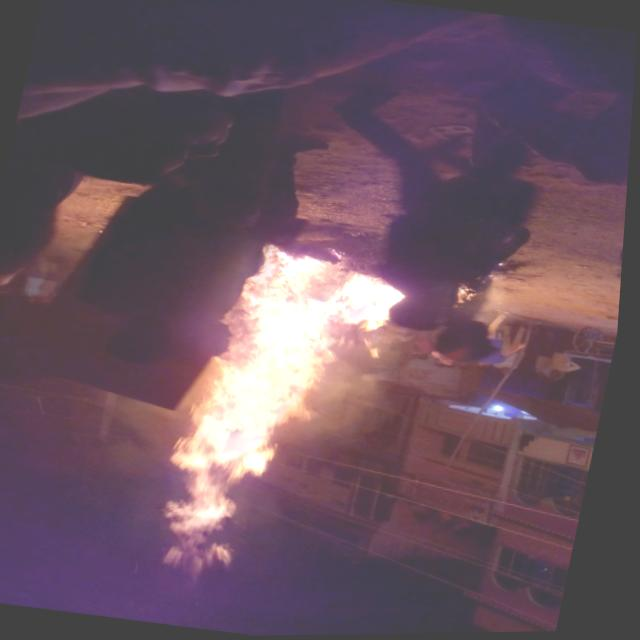helmet: (149, 236, 419, 600)
